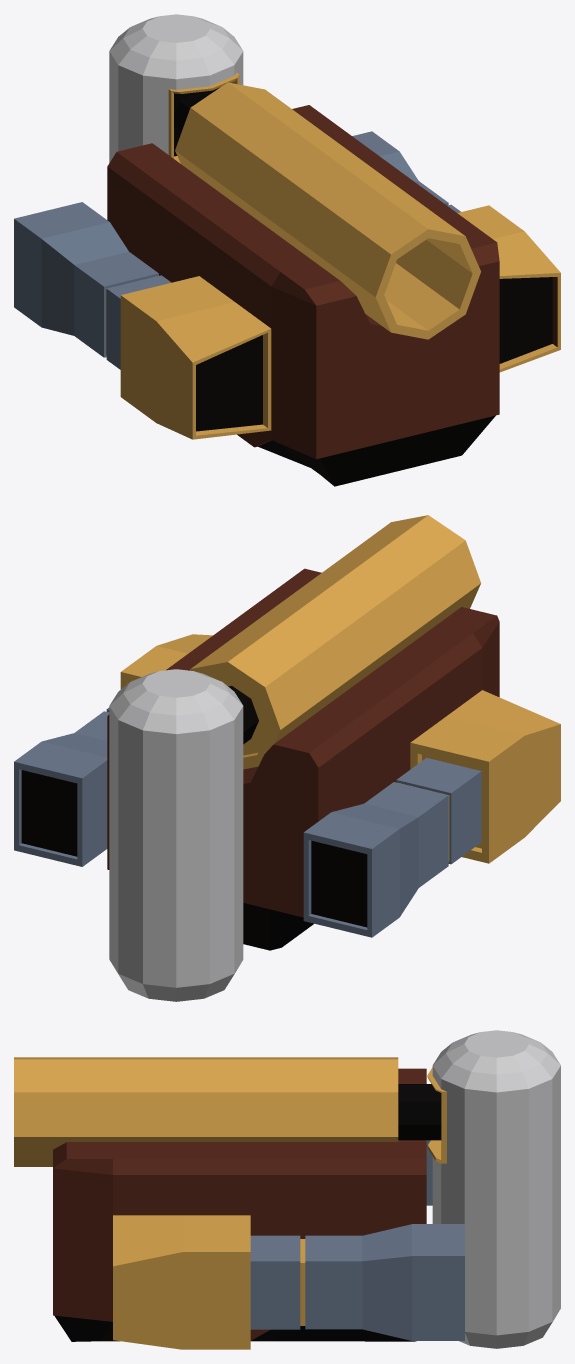
Rendered from Gegner14.fbx.
3 views of the same model, one above another, from view 1: azimuth 30°, elevation 25°; view 2: azimuth 150°, elevation 25°; view 3: azimuth 270°, elevation 25° (orthographic). The views are drawn at different scales.
Parts seen in each view (by area): view 1: Object; view 2: Object; view 3: Object.
Boxes of the visible parts, x1,y1,x2,y2 form: Object: (14,14,560,486); Object: (14,515,560,1001); Object: (14,1030,560,1349).
Bounding box in the file's own units: 349 × 275 × 469.
